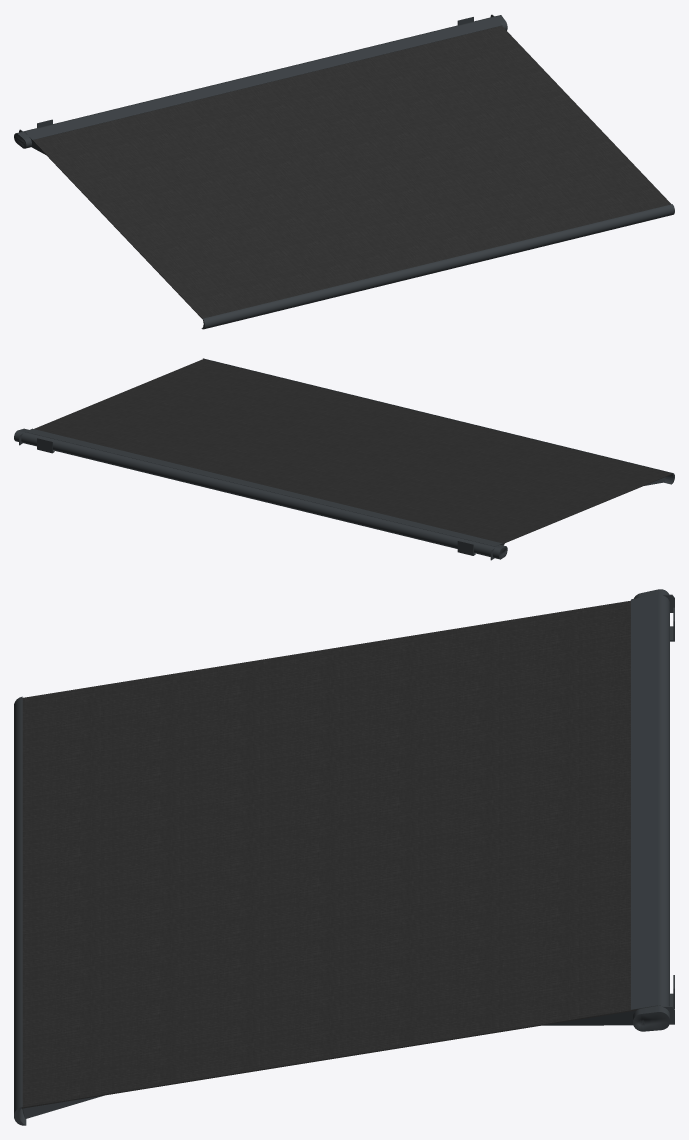
3 views of the same model, one above another, from view 1: azimuth 30°, elevation 25°; view 2: azimuth 150°, elevation 25°; view 3: azimuth 270°, elevation 25° (orthographic). The views are drawn at different scales.
Visible parts, largest first — view 1: Cube_4, Cylinder015, Cube_3_3, Cylinder_191; view 2: Cube_4, Cylinder_191, Cube_3_3, Cylinder015; view 3: Cube_4, Cube_3_3, Cylinder_191, Cylinder015, Extrude_171.
Part boxes in pixels (x1,y1,x2,y2): Cube_4: [31, 26, 671, 318]; Cylinder015: [201, 204, 674, 329]; Cube_3_3: [25, 17, 502, 140]; Cylinder_191: [23, 16, 494, 132]; Cube_4: [34, 359, 672, 544]; Cylinder_191: [21, 432, 494, 556]; Cube_3_3: [25, 428, 502, 546]; Cylinder015: [203, 358, 674, 484]; Cube_4: [21, 600, 645, 1108]; Cube_3_3: [631, 595, 657, 1009]; Cylinder_191: [656, 595, 669, 1006]; Cylinder015: [14, 696, 26, 1125]; Extrude_171: [633, 1006, 669, 1031].
Size of the model in its own units: 3716 by 502 by 2451.
2 materials, 2 textured.
